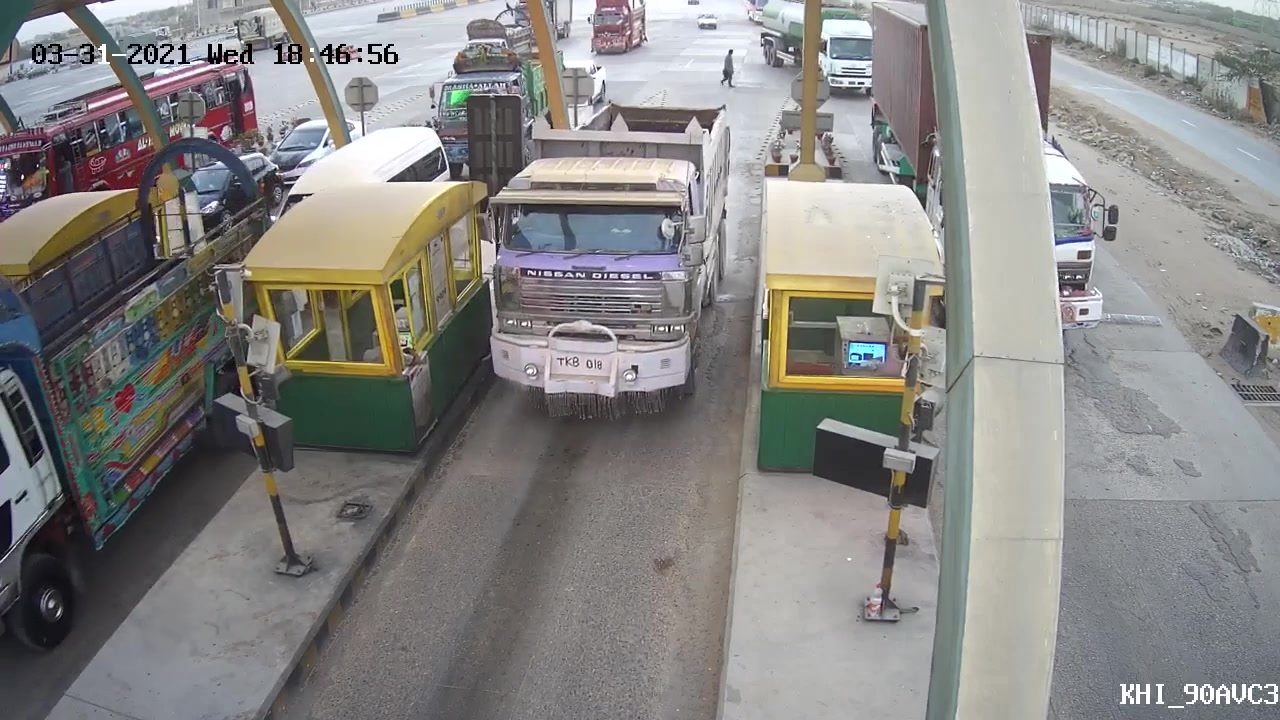F5: (481, 95, 739, 420)
